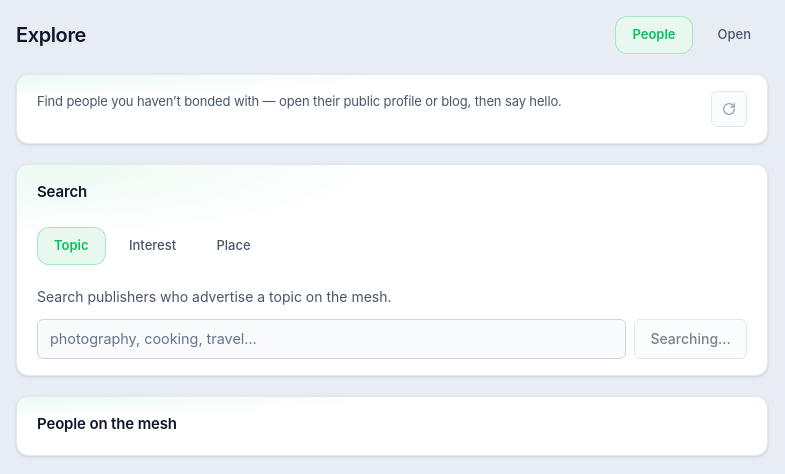
Scenario: BrowserView › renders markdown when contentType includes charset (node mimeTypeForFilename)
Step 1. Click the tab with test id "browser-mode-open" → [734, 35], box 700,16 -> 768,54
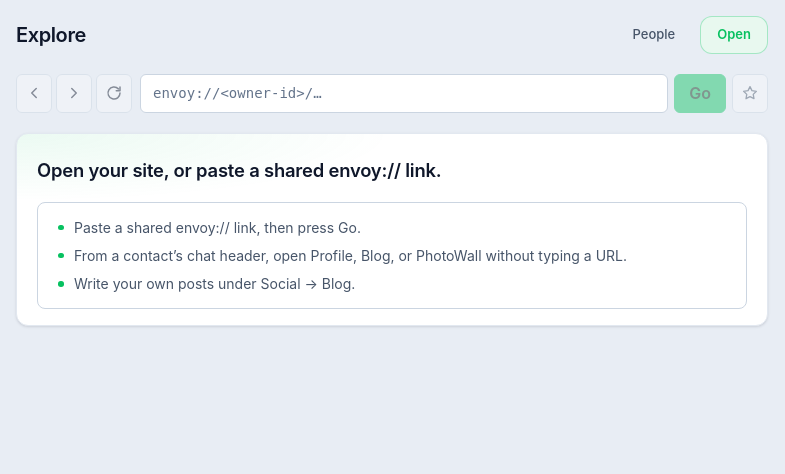
Step 2. Type "envoy://envoy:owner:abc123/feeds/hello.md" into the field with test id "browser-address-bar" → [404, 93], box 140,74 -> 668,112
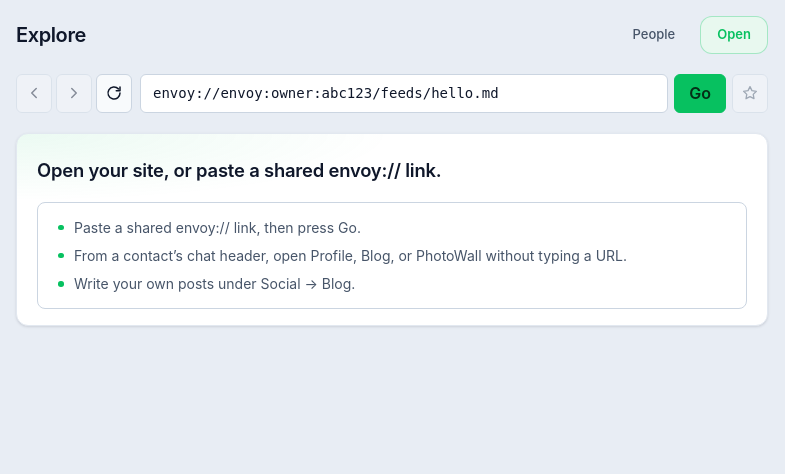
Step 3. Click the button with test id "browser-go" → [700, 93], box 674,74 -> 726,112
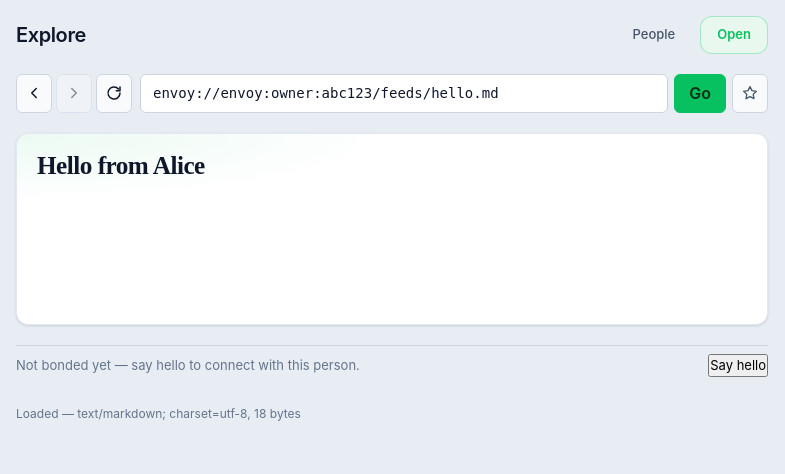
Now the element with test id "browser-markdown" reads "Hello from Alice", box 37,152 -> 205,178
